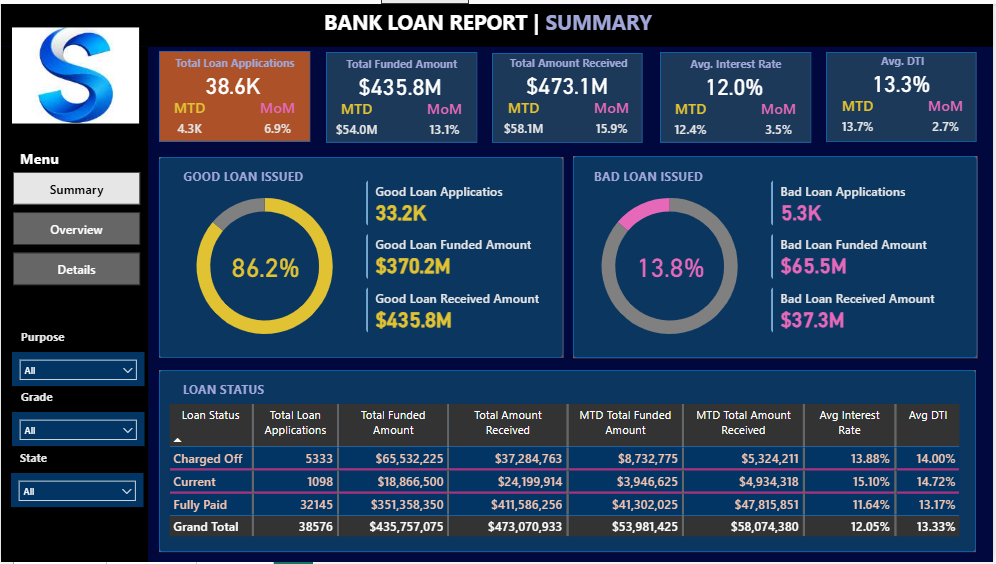

Layout of this report page (visuals, bound fields, positions):
{"tool":"powerbi","page":{"name":"Summary","canvas":[1280,720],"ordinal":0},"visuals":[{"type":"shape","box":[0,55.6,190,664.9],"z":0},{"type":"shape","box":[0,0,1280,55.4],"z":1000},{"type":"shape","box":[203.9,472.3,1054.2,234.8],"z":1000,"group":"g11"},{"type":"textbox","box":[397.6,0,465.6,55.6],"z":2000},{"type":"group","id":"g1","title":"Group 1","box":[199.8,60.9,198.4,119.1],"z":3000},{"type":"shape","box":[203.4,60.9,195.4,116.9],"z":3000,"group":"g1"},{"type":"shape","box":[1063.9,61.8,194.2,116.2],"z":3000,"group":"g5"},{"type":"shape","box":[418.5,62.4,195.4,116.9],"z":3000,"group":"g2"},{"type":"shape","box":[850.1,62.4,195.4,116.9],"z":3000,"group":"g4"},{"type":"shape","box":[633.8,63.5,194.2,116.2],"z":3000,"group":"g3"},{"type":"group","id":"g2","title":"Group 1","box":[414.9,62.4,199.8,119.1],"z":4000},{"type":"group","id":"g3","title":"Group 1","box":[631.4,60.9,198.4,119.1],"z":5000},{"type":"card","fields":{"Values":["financial_loan.Avg DTI"]},"box":[1061.6,74.7,198.4,53.9],"z":5000,"group":"g5"},{"type":"card","fields":{"Values":["financial_loan.Total Loan Applications"]},"box":[199.8,77.5,198.4,53.9],"z":5000,"group":"g1"},{"type":"card","fields":{"Values":["financial_loan.Total Amount Received"]},"box":[631.4,77.5,198.4,53.9],"z":5000,"group":"g3"},{"type":"card","fields":{"Values":["financial_loan.Total Funded Amount"]},"box":[414.9,79,198.4,53.9],"z":5000,"group":"g2"},{"type":"card","fields":{"Values":["financial_loan.Avg Interest Rate"]},"box":[846.5,79,198.4,53.9],"z":5000,"group":"g4"},{"type":"textbox","box":[1065.2,58.1,195.4,33.5],"z":6000,"group":"g5"},{"type":"textbox","box":[203.4,60.9,195.4,33.5],"z":6000,"group":"g1"},{"type":"textbox","box":[635,60.9,195.4,33.5],"z":6000,"group":"g3"},{"type":"textbox","box":[418.5,62.4,195.4,33.5],"z":6000,"group":"g2"},{"type":"textbox","box":[850.1,62.4,195.4,33.5],"z":6000,"group":"g4"},{"type":"shape","box":[204.1,197,521.6,259.4],"z":6000},{"type":"group","id":"g4","title":"Group 1","box":[846.5,62.4,199.8,119.1],"z":7000},{"type":"card","title":"MTD","fields":{"Values":["financial_loan.MTD Avg DTI"]},"box":[1065.9,117.2,79.4,59.5],"z":7000,"group":"g5"},{"type":"card","title":"MTD","fields":{"Values":["financial_loan.MTD Total Loan Applications"]},"box":[204.1,120,79.4,59.5],"z":7000,"group":"g1"},{"type":"card","title":"MTD","fields":{"Values":["financial_loan.MTD Total Amount Received"]},"box":[635.7,120,79.4,59.5],"z":7000,"group":"g3"},{"type":"card","title":"MTD","fields":{"Values":["financial_loan.MTD Total Funded Amount"]},"box":[419.2,121.5,79.4,59.5],"z":7000,"group":"g2"},{"type":"card","title":"MTD","fields":{"Values":["financial_loan.MTD Avg Interest Rate"]},"box":[850.8,121.5,79.4,59.5],"z":7000,"group":"g4"},{"type":"group","id":"g5","title":"Group 1","box":[1061.6,58.1,198.4,120.5],"z":8000},{"type":"card","title":"MoM","fields":{"Values":["financial_loan.MoM Avg DTI"]},"box":[1179.2,117.2,79.4,59.5],"z":8000,"group":"g5"},{"type":"card","title":"MoM","fields":{"Values":["financial_loan.MoM Loan Applications"]},"box":[317.4,120,79.4,59.5],"z":8000,"group":"g1"},{"type":"card","title":"MoM","fields":{"Values":["financial_loan.MoM Amount Received"]},"box":[749,120,79.4,59.5],"z":8000,"group":"g3"},{"type":"card","title":"MoM","fields":{"Values":["financial_loan.MoM Total Funded Amount"]},"box":[532.5,121.5,79.4,59.5],"z":8000,"group":"g2"},{"type":"card","title":"MoM","fields":{"Values":["financial_loan.MoM Avg Interest Rate"]},"box":[964.1,121.5,79.4,59.5],"z":8000,"group":"g4"},{"type":"shape","box":[738.4,195.6,521.6,260.8],"z":9000},{"type":"group","id":"g6","title":"Group 2","box":[215.4,206.9,510.2,246.6],"z":10000},{"type":"donutChart","fields":{"Category":["financial_loan.Good v. Bad Loan"],"Y":["financial_loan.Total Loan Applications"]},"box":[215.4,223.9,249.4,229.6],"z":10000,"group":"g6"},{"type":"donutChart","fields":{"Category":["financial_loan.Good v. Bad Loan"],"Y":["financial_loan.Total Loan Applications"]},"box":[738.4,223.9,249.4,229.6],"z":10000,"group":"g7"},{"type":"group","id":"g7","title":"Group 2","box":[738.4,206.9,510.2,246.6],"z":11000},{"type":"card","fields":{"Values":["financial_loan.Good Loan %"]},"box":[270.7,311.8,140.3,53.9],"z":12000,"group":"g6"},{"type":"card","fields":{"Values":["financial_loan.Bad Loan %"]},"box":[793.7,311.8,140.3,53.9],"z":12000,"group":"g7"},{"type":"group","id":"g8","title":"Group 3","box":[12.5,569.8,171.5,78.3],"z":12000},{"type":"textbox","box":[215.4,206.9,195,33],"z":13000,"group":"g6"},{"type":"textbox","box":[738.4,206.9,195,33],"z":13000,"group":"g7"},{"type":"group","id":"g9","title":"Group 3","box":[14.2,413.9,171.5,78],"z":13000},{"type":"textbox","box":[229.4,481.7,194.9,31.2],"z":13000,"group":"g11"},{"type":"group","id":"g10","title":"Group 3","box":[14.2,491.8,171.5,78],"z":14000},{"type":"tableEx","fields":{"Values":["financial_loan.loan_status","financial_loan.Total Loan Applications","financial_loan.Total Funded Amount","financial_loan.Total Amount Received","financial_loan.MTD Total Funded Amount","financial_loan.MTD Total Amount Received","financial_loan.Avg Interest Rate","financial_loan.Avg DTI"]},"box":[211.8,510.7,1041.3,184.5],"z":14000,"group":"g11"},{"type":"cardVisual","fields":{"Data":["financial_loan.Good Loan Applicatios","financial_loan.Good Loan Funded Amount","financial_loan.Good Loan Received Amount"]},"box":[453.5,211.2,272.1,232.4],"z":14500,"group":"g6"},{"type":"cardVisual","fields":{"Data":["financial_loan.Bad Loan Applications","financial_loan.Bad Loan Funded Amount","financial_loan.Bad Loan Received Amount"]},"box":[976.5,211.2,272.1,232.4],"z":14500,"group":"g7"},{"type":"slicer","title":"State","fields":{"Values":["financial_loan.purpose"]},"box":[14.2,448.3,171.5,43.9],"z":15000,"group":"g9"},{"type":"group","id":"g11","title":"Group 4","box":[203.9,472.3,1054.2,234.8],"z":15000},{"type":"slicer","title":"State","fields":{"Values":["financial_loan.grade"]},"box":[14.2,526.2,171.5,43.9],"z":15000,"group":"g10"},{"type":"slicer","title":"State","fields":{"Values":["financial_loan.address_state"]},"box":[12.5,604.2,171.5,43.9],"z":15000,"group":"g8"},{"type":"image","box":[14.2,22.7,164.4,137.5],"z":15501},{"type":"textbox","box":[19.8,181.4,116.2,35.4],"z":16500},{"type":"textbox","box":[20.1,413.9,116.2,32.6],"z":16500,"group":"g9"},{"type":"textbox","box":[20.1,491.8,116.2,32.6],"z":16500,"group":"g10"},{"type":"textbox","box":[18.4,569.8,116.2,32.6],"z":16500,"group":"g8"},{"type":"pageNavigator","box":[15.6,216.9,164.4,148.8],"z":16502}]}

Visuals, with their boxes in screenshot pixels (x1, y1, x2, y2), scaled from the page's 1280x720 canvas onto the 996x564 screenshot:
shape: select_region(0, 44, 148, 563)
shape: select_region(0, 0, 995, 43)
shape: select_region(159, 370, 979, 554)
textbox: select_region(309, 0, 672, 44)
"Group 1" group: select_region(155, 48, 310, 141)
shape: select_region(158, 48, 310, 139)
shape: select_region(828, 48, 979, 139)
shape: select_region(326, 49, 478, 140)
shape: select_region(661, 49, 814, 140)
shape: select_region(493, 50, 644, 141)
"Group 1" group: select_region(323, 49, 478, 142)
"Group 1" group: select_region(491, 48, 646, 141)
card - financial_loan.Avg DTI: select_region(826, 59, 980, 101)
card - financial_loan.Total Loan Applications: select_region(155, 61, 310, 103)
card - financial_loan.Total Amount Received: select_region(491, 61, 646, 103)
card - financial_loan.Total Funded Amount: select_region(323, 62, 477, 104)
card - financial_loan.Avg Interest Rate: select_region(659, 62, 813, 104)
textbox: select_region(829, 46, 981, 72)
textbox: select_region(158, 48, 310, 74)
textbox: select_region(494, 48, 646, 74)
textbox: select_region(326, 49, 478, 75)
textbox: select_region(661, 49, 814, 75)
shape: select_region(159, 154, 565, 358)
"Group 1" group: select_region(659, 49, 814, 142)
"MTD" card: select_region(829, 92, 891, 138)
"MTD" card: select_region(159, 94, 221, 141)
"MTD" card: select_region(495, 94, 556, 141)
"MTD" card: select_region(326, 95, 388, 142)
"MTD" card: select_region(662, 95, 724, 142)
"Group 1" group: select_region(826, 46, 980, 140)
"MoM" card: select_region(918, 92, 979, 138)
"MoM" card: select_region(247, 94, 309, 141)
"MoM" card: select_region(583, 94, 645, 141)
"MoM" card: select_region(414, 95, 476, 142)
"MoM" card: select_region(750, 95, 812, 142)
shape: select_region(575, 153, 980, 358)
"Group 2" group: select_region(168, 162, 565, 355)
donutChart - financial_loan.Good v. Bad Loan x financial_loan.Total Loan Applications: select_region(168, 175, 362, 355)
donutChart - financial_loan.Good v. Bad Loan x financial_loan.Total Loan Applications: select_region(575, 175, 769, 355)
"Group 2" group: select_region(575, 162, 972, 355)
card - financial_loan.Good Loan %: select_region(211, 244, 320, 286)
card - financial_loan.Bad Loan %: select_region(618, 244, 727, 286)
"Group 3" group: select_region(10, 446, 143, 508)
textbox: select_region(168, 162, 319, 188)
textbox: select_region(575, 162, 726, 188)
"Group 3" group: select_region(11, 324, 144, 385)
textbox: select_region(179, 377, 330, 402)
"Group 3" group: select_region(11, 385, 144, 446)
tableEx - financial_loan.loan_status x financial_loan.Total Loan Applications: select_region(165, 400, 975, 545)
cardVisual - financial_loan.Good Loan Applicatios x financial_loan.Good Loan Funded Amount: select_region(353, 165, 565, 347)
cardVisual - financial_loan.Bad Loan Applications x financial_loan.Bad Loan Funded Amount: select_region(760, 165, 972, 347)
"State" slicer: select_region(11, 351, 144, 386)
"Group 4" group: select_region(159, 370, 979, 554)
"State" slicer: select_region(11, 412, 144, 447)
"State" slicer: select_region(10, 473, 143, 508)
image: select_region(11, 18, 139, 125)
textbox: select_region(15, 142, 106, 170)
textbox: select_region(16, 324, 106, 350)
textbox: select_region(16, 385, 106, 411)
textbox: select_region(14, 446, 105, 472)
pageNavigator: select_region(12, 170, 140, 286)
